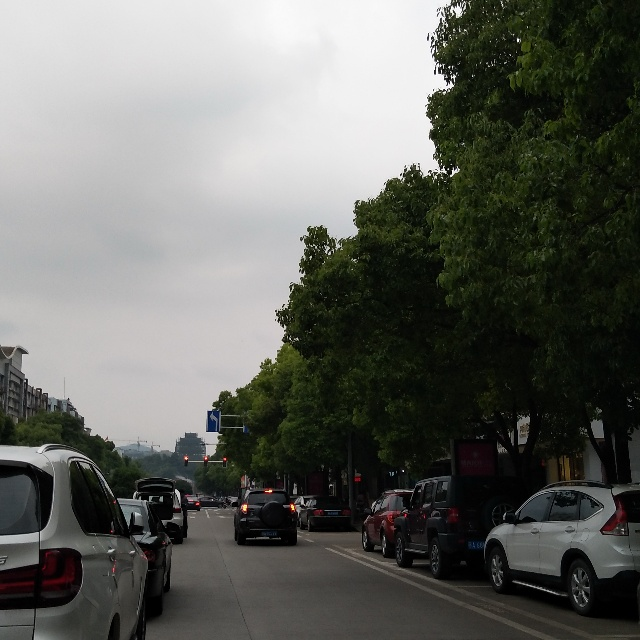left: (206, 410, 220, 433)
